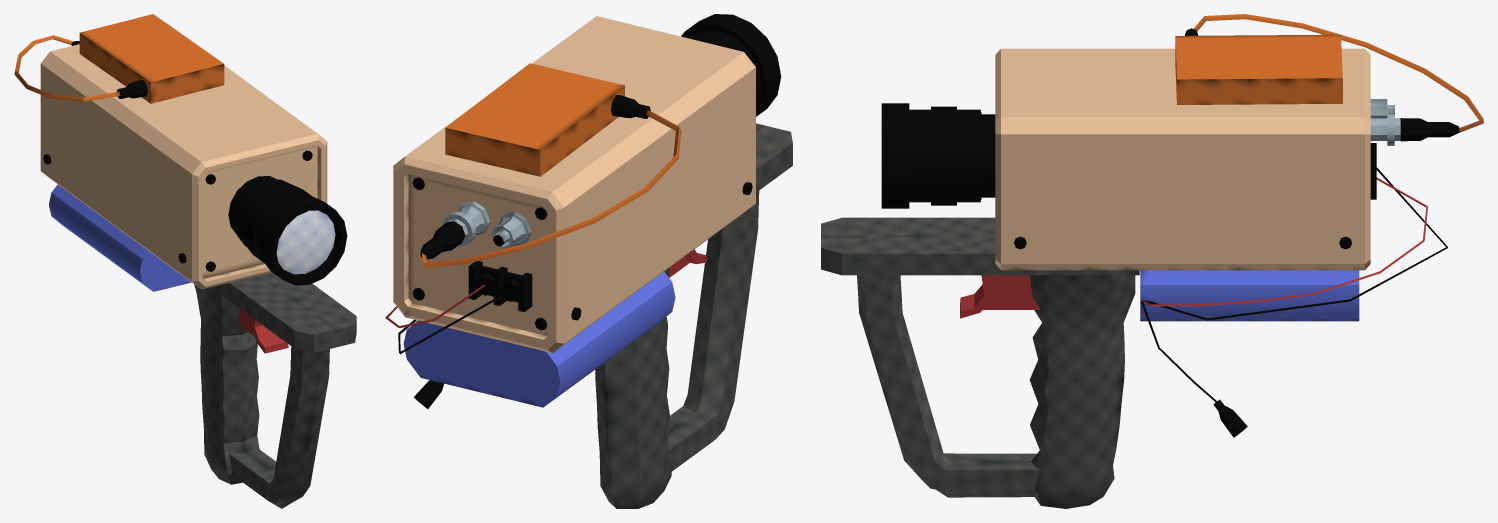
Rendered from CameraGun.fbx.
3 views of the same model, side by side, from view 1: azimuth 30°, elevation 25°; view 2: azimuth 150°, elevation 25°; view 3: azimuth 270°, elevation 25° (orthographic). The views are drawn at different scales.
Visible parts, largest first — view 1: Camara; view 2: Camara; view 3: Camara.
Boxes of the visible parts, bbox=[...] form: Camara: bbox=[14, 14, 356, 508]; Camara: bbox=[385, 14, 792, 508]; Camara: bbox=[821, 14, 1483, 508].
Bounding box in the file's own units: 93.93 × 157 × 212.
1 material, 1 textured.
